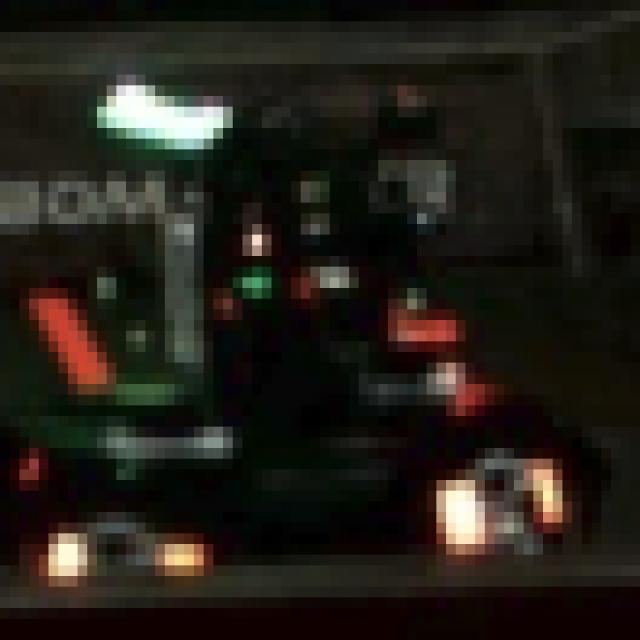Rs: (427, 448, 572, 565)
